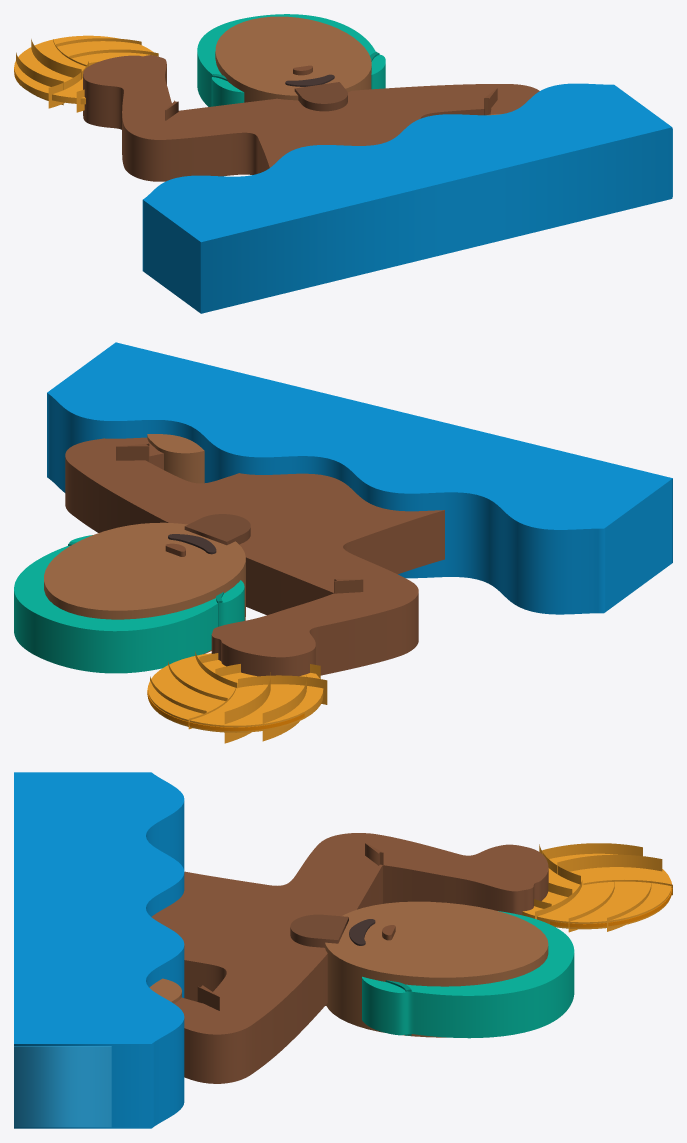
File: emoji_u1f93d_1f3fe_200d_2642.glb
3 renders of one model, top to bottom at view 1: azimuth 30°, elevation 25°; view 2: azimuth 150°, elevation 25°; view 3: azimuth 270°, elevation 25°, orthographic. The views are drawn at different scales.
Visible parts, largest first — view 1: emoji_u1f93d_1f3fe_200d_2642; view 2: emoji_u1f93d_1f3fe_200d_2642; view 3: emoji_u1f93d_1f3fe_200d_2642.
Part boxes in pixels (<box>): emoji_u1f93d_1f3fe_200d_2642: <box>14,14,672,313</box>; emoji_u1f93d_1f3fe_200d_2642: <box>14,342,672,743</box>; emoji_u1f93d_1f3fe_200d_2642: <box>14,772,672,1128</box>.
Size of the model in its own units: 0.0331 by 0.0048 by 0.0339.
